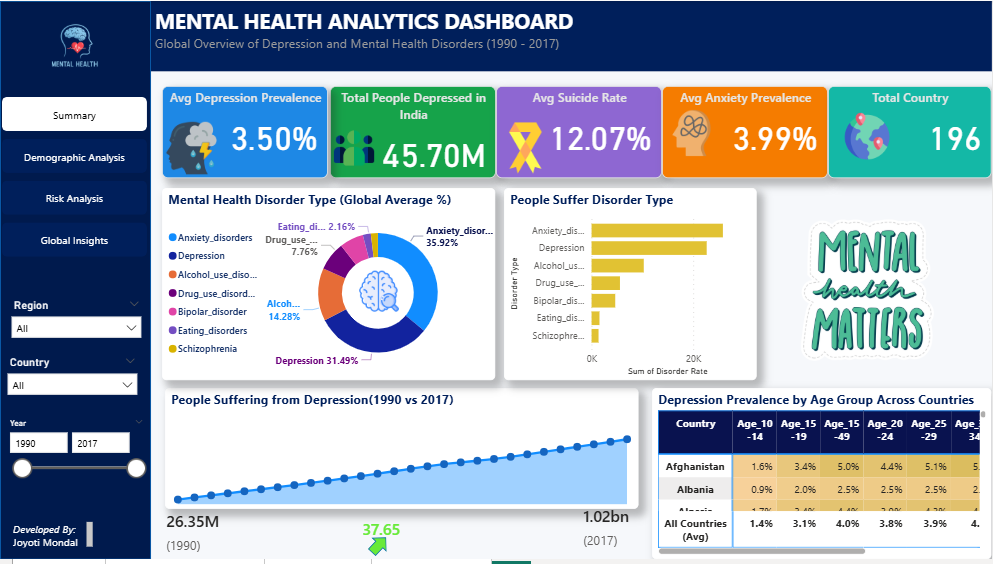

The page's visual inventory and layout, read from the dashboard file:
{"tool":"powerbi","page":{"name":"Summary","canvas":[1280,720],"ordinal":0},"visuals":[{"type":"cardVisual","title":"Avg Depression Prevalence","fields":{"Data":["_Key Measures.Avg Depression Prevalence %"]},"box":[209.5,109.5,214.3,119],"z":0,"group":"g1"},{"type":"areaChart","title":"People Suffering from Depression(1990 vs 2017)","fields":{"Category":["Depression By Count.Year"],"Y":["_Key Measures.Total People Suffering ALL"]},"box":[212.6,498.9,610.9,155.9],"z":0},{"type":"shape","box":[0,0,194.9,720.6],"z":1000},{"type":"image","box":[209.5,149.2,76.2,79.4],"z":1000,"group":"g1"},{"type":"shape","box":[194.9,0,1085.1,90.7],"z":2000},{"type":"textbox","box":[195.2,3.2,558.7,84.1],"z":3000},{"type":"image","box":[11.8,3.4,171.3,120.9],"z":4000},{"type":"slicer","fields":{"Values":["DimCountry.Country"]},"box":[0,452.4,187.3,92.1],"z":5000},{"type":"slicer","title":"Year","fields":{"Values":["DimYear.Year"]},"box":[0,533.3,196.8,98.4],"z":6000},{"type":"cardVisual","title":"Total People Depressed in India","fields":{"Data":["_Key Measures.Total People Suffering"]},"box":[425.4,109.5,214.3,119],"z":7000},{"type":"cardVisual","title":"Avg Suicide Rate","fields":{"Data":["_Key Measures.Avg Suicide Rate"]},"box":[639.7,109.5,214.3,119],"z":8000},{"type":"cardVisual","title":"Avg Anxiety Prevalence","fields":{"Data":["_Key Measures.Avg Anxiety Prevalence %"]},"box":[854,109.5,214.3,119],"z":9000},{"type":"cardVisual","title":"Total Country","fields":{"Data":["_Key Measures.Total Country"]},"box":[1068.3,109.5,211.1,119],"z":10000},{"type":"group","id":"g1","title":"Group 1","box":[209.5,109.5,214.3,119],"z":11000},{"type":"image","box":[425.4,149.2,61.9,79.4],"z":12000},{"type":"image","box":[639.7,149.2,76.2,79.4],"z":13000},{"type":"image","box":[854,130.2,76.2,79.4],"z":14000},{"type":"image","box":[1084.1,139.7,69.8,69.8],"z":15000},{"type":"pageNavigator","box":[3.2,123.8,187.3,209.5],"z":16000},{"type":"slicer","fields":{"Values":["DimCountry.Region"]},"box":[4.8,379.4,187.3,73],"z":17000},{"type":"donutChart","title":"Mental Health Disorder Type (Global Average %)","fields":{"Category":["MentalDisorders.Disorder Type"],"Y":["_Key Measures.Avg Prevalence"]},"box":[209.5,241.3,430.2,247.6],"z":18000},{"type":"image","box":[457.1,333.3,63.5,82.5],"z":19000},{"type":"textbox","box":[11.1,666.7,112.7,42.9],"z":20000},{"type":"cardVisual","fields":{"Data":["_Key Measures.Depression 1990"]},"box":[197,640.6,106.3,79.4],"z":21000},{"type":"cardVisual","fields":{"Data":["_Key Measures.Depression in Latest Year"]},"box":[735.6,633.5,106.3,86.5],"z":22000},{"type":"cardVisual","fields":{"Data":["_Key Measures.Growth %"]},"box":[450.7,642,134.6,69.4],"z":23000},{"type":"shape","box":[474.8,687.4,24.1,32.6],"z":24000},{"type":"clusteredBarChart","title":"People Suffer Disorder Type","fields":{"Category":["MentalDisorders.Disorder Type"],"Y":["Sum(MentalDisorders.Disorder Rate)"]},"box":[650.6,240.9,326,248],"z":25000},{"type":"pivotTable","title":"Depression Prevalence by Age Group Across Countries","fields":{"Rows":["DimCountry.Country"],"Columns":["DepressionByAge.AgeGroup"],"Values":["_Key Measures.Avg Depression Prevelance %"]},"box":[841.9,498.9,438,221.1],"z":26000},{"type":"image","box":[1014.8,249.4,209.8,248],"z":27000}]}

Visuals, with their boxes on the page's 1280x720 design canvas (x1, y1, x2, y2). These are canvas units, not pixel positions in the 993x564 screenshot, which may show the page scaled, cropped or inside an application window:
"Avg Depression Prevalence" cardVisual: crop(210, 110, 424, 228)
"People Suffering from Depression(1990 vs 2017)" areaChart: crop(213, 499, 824, 655)
shape: crop(0, 0, 195, 721)
image: crop(210, 149, 286, 229)
shape: crop(195, 0, 1280, 91)
textbox: crop(195, 3, 754, 87)
image: crop(12, 3, 183, 124)
slicer - DimCountry.Country: crop(0, 452, 187, 544)
"Year" slicer: crop(0, 533, 197, 632)
"Total People Depressed in India" cardVisual: crop(425, 110, 640, 228)
"Avg Suicide Rate" cardVisual: crop(640, 110, 854, 228)
"Avg Anxiety Prevalence" cardVisual: crop(854, 110, 1068, 228)
"Total Country" cardVisual: crop(1068, 110, 1279, 228)
"Group 1" group: crop(210, 110, 424, 228)
image: crop(425, 149, 487, 229)
image: crop(640, 149, 716, 229)
image: crop(854, 130, 930, 210)
image: crop(1084, 140, 1154, 210)
pageNavigator: crop(3, 124, 190, 333)
slicer - DimCountry.Region: crop(5, 379, 192, 452)
"Mental Health Disorder Type (Global Average %)" donutChart: crop(210, 241, 640, 489)
image: crop(457, 333, 521, 416)
textbox: crop(11, 667, 124, 710)
cardVisual - _Key Measures.Depression 1990: crop(197, 641, 303, 720)
cardVisual - _Key Measures.Depression in Latest Year: crop(736, 634, 842, 720)
cardVisual - _Key Measures.Growth %: crop(451, 642, 585, 711)
shape: crop(475, 687, 499, 720)
"People Suffer Disorder Type" clusteredBarChart: crop(651, 241, 977, 489)
"Depression Prevalence by Age Group Across Countries" pivotTable: crop(842, 499, 1280, 720)
image: crop(1015, 249, 1225, 497)
